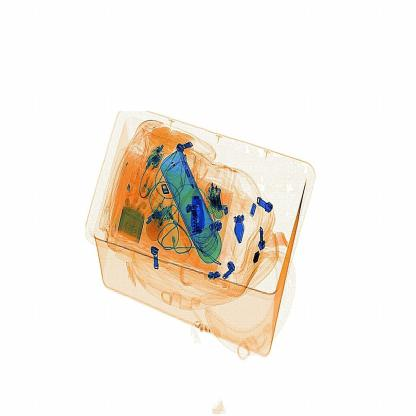scissors: (186, 186, 208, 250)
